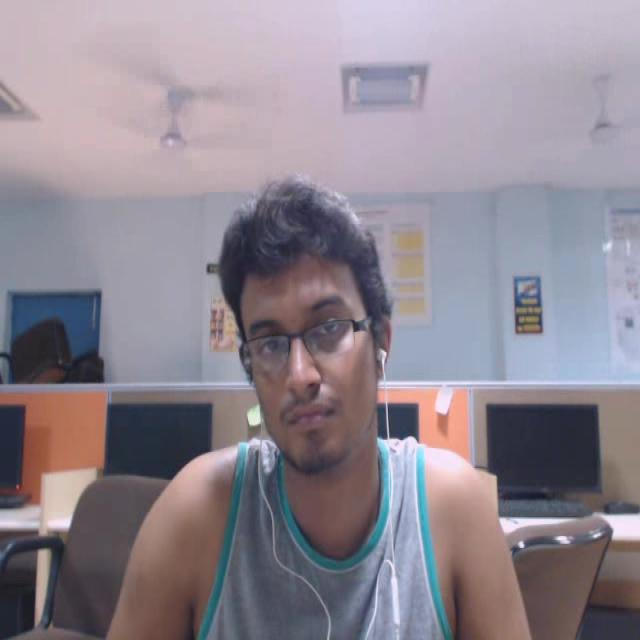Engaged: (189, 170, 451, 526)
